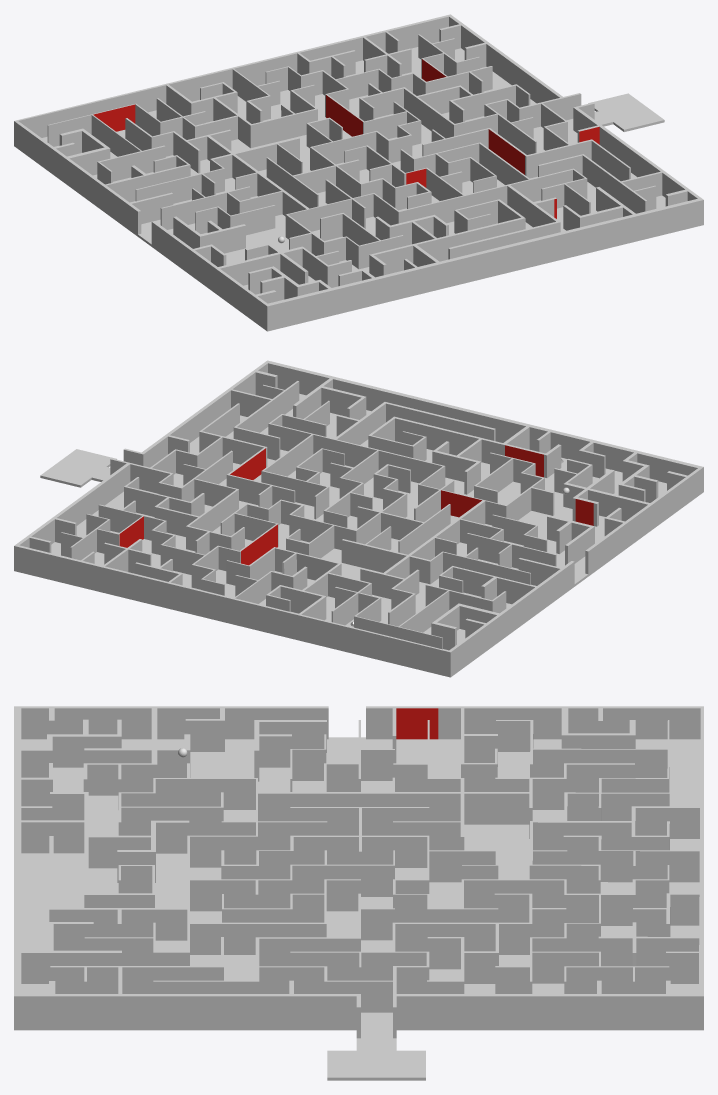
The model's file is игра шарик53.fbx.
3 views of the same model, one above another, from view 1: azimuth 30°, elevation 25°; view 2: azimuth 150°, elevation 25°; view 3: azimuth 270°, elevation 25° (orthographic). The views are drawn at different scales.
Visible parts, largest first — view 1: стены лабиринта, пол лабиринта, Cube.006, Cube.005, Cube.004; view 2: стены лабиринта, пол лабиринта, Cube.006, Cube.011, Cube.005, Cube.012; view 3: стены лабиринта, пол лабиринта, Cube.014.
Boxes of the visible parts, <box> form: стены лабиринта: <box>14,14,703,328</box>; пол лабиринта: <box>14,47,703,331</box>; Cube.006: <box>326,95,362,136</box>; Cube.005: <box>488,129,524,174</box>; Cube.004: <box>93,104,135,131</box>; стены лабиринта: <box>14,360,703,674</box>; пол лабиринта: <box>14,393,703,677</box>; Cube.006: <box>241,524,277,565</box>; Cube.011: <box>441,490,481,517</box>; Cube.005: <box>230,448,265,479</box>; Cube.012: <box>505,445,543,477</box>; стены лабиринта: <box>14,706,703,1038</box>; пол лабиринта: <box>14,737,703,1080</box>; Cube.014: <box>396,708,438,739</box>.
Size of the model in its own units: 8503 by 493 by 7285.
